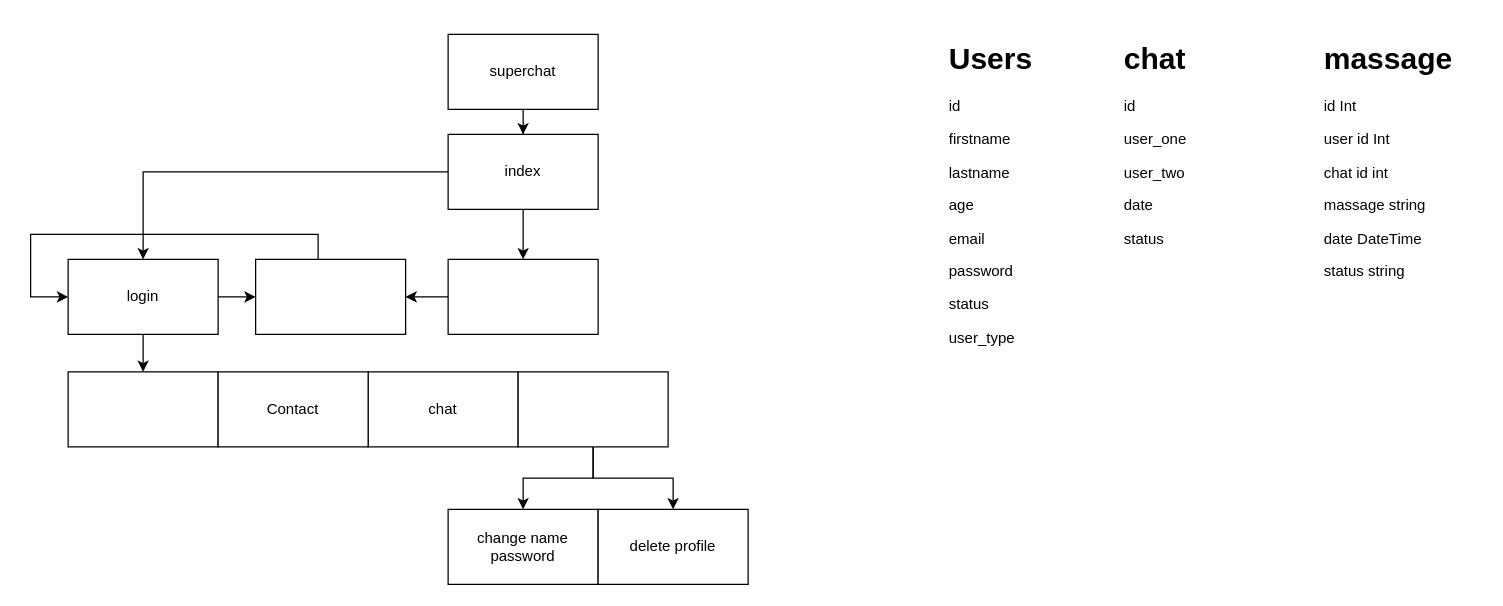
Some shapes in this 1503 by 606 pixel diagram are drawn without their labels. Here are the shapes that lost their labels. From the top down, the centre of each, then its label:
At point 330,296: "forget password".
At point 522,296: "register".
At point 142,409: "profile".
At point 592,409: "settings".
